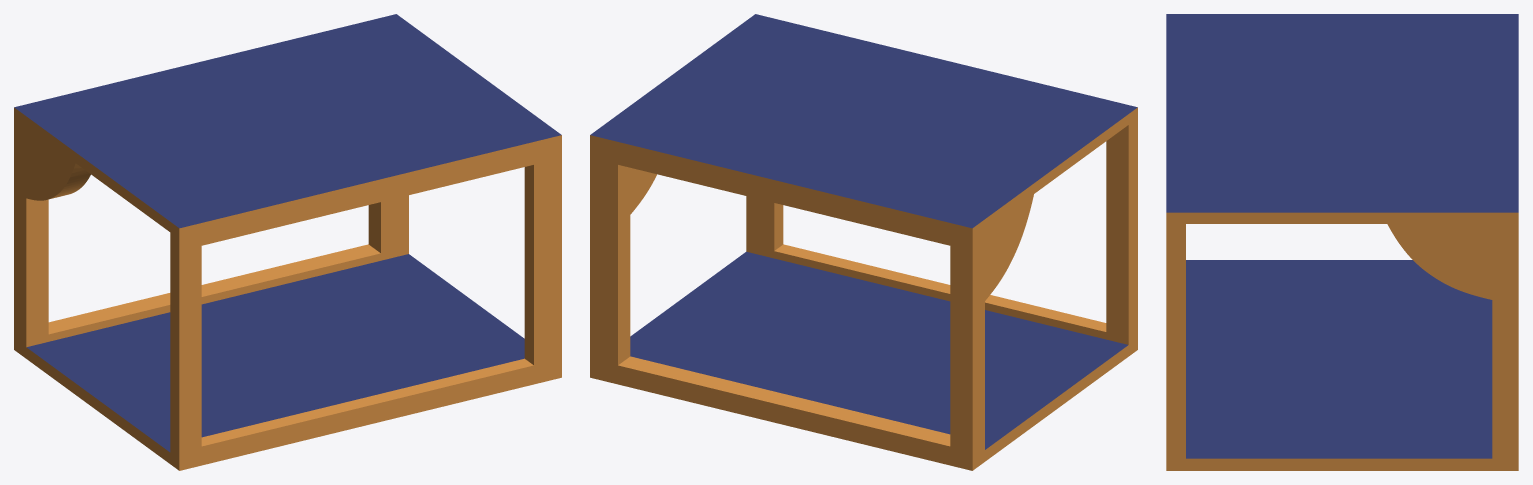
The model's file is tray_blend_2.dae.
3 views of the same model, side by side, from view 1: azimuth 30°, elevation 25°; view 2: azimuth 150°, elevation 25°; view 3: azimuth 270°, elevation 25° (orthographic). The views are drawn at different scales.
Parts seen in each view (by area): view 1: node0; view 2: node0; view 3: node0.
Part boxes in pixels (x1,y1,x2,y2): node0: (14, 14, 561, 470); node0: (590, 14, 1137, 470); node0: (1166, 14, 1518, 470).
Size of the model in its own units: 0.361 by 0.2705 by 0.2188.
